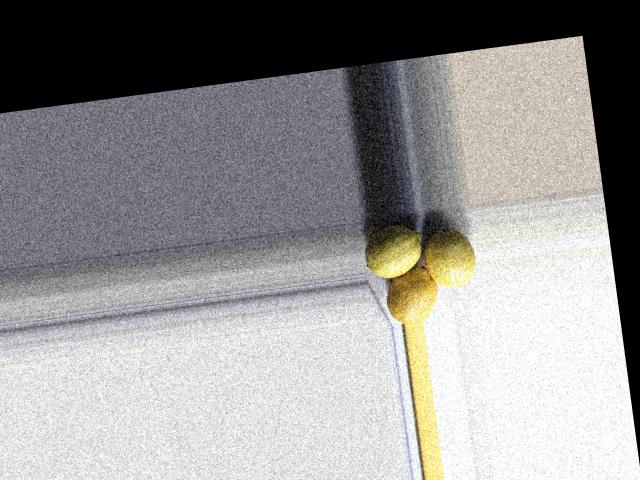lemon: (424, 221, 479, 290)
